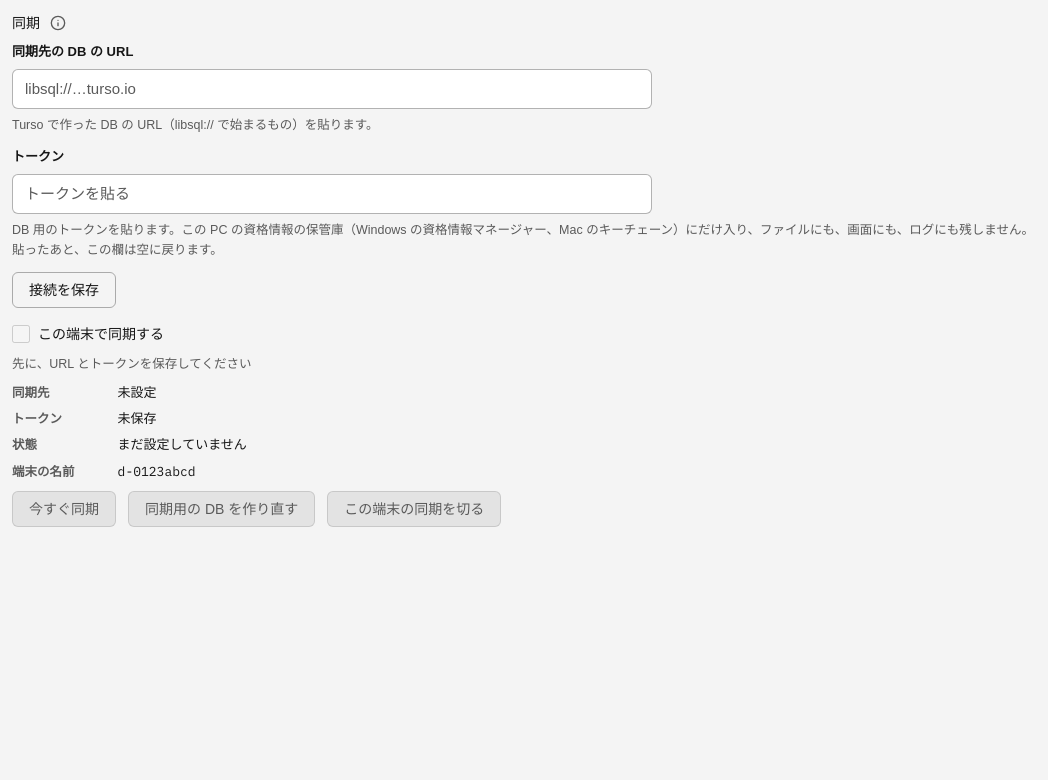
設定の「同期」の欄（F15、D-4） › 何も貼らずに保存を押すと、理由を出し、保存のコマンドは呼ばない
The width and height of the screenshot is (1048, 780).
Click the button "接続を保存". click: (64, 290)
box: [12, 272, 116, 308]
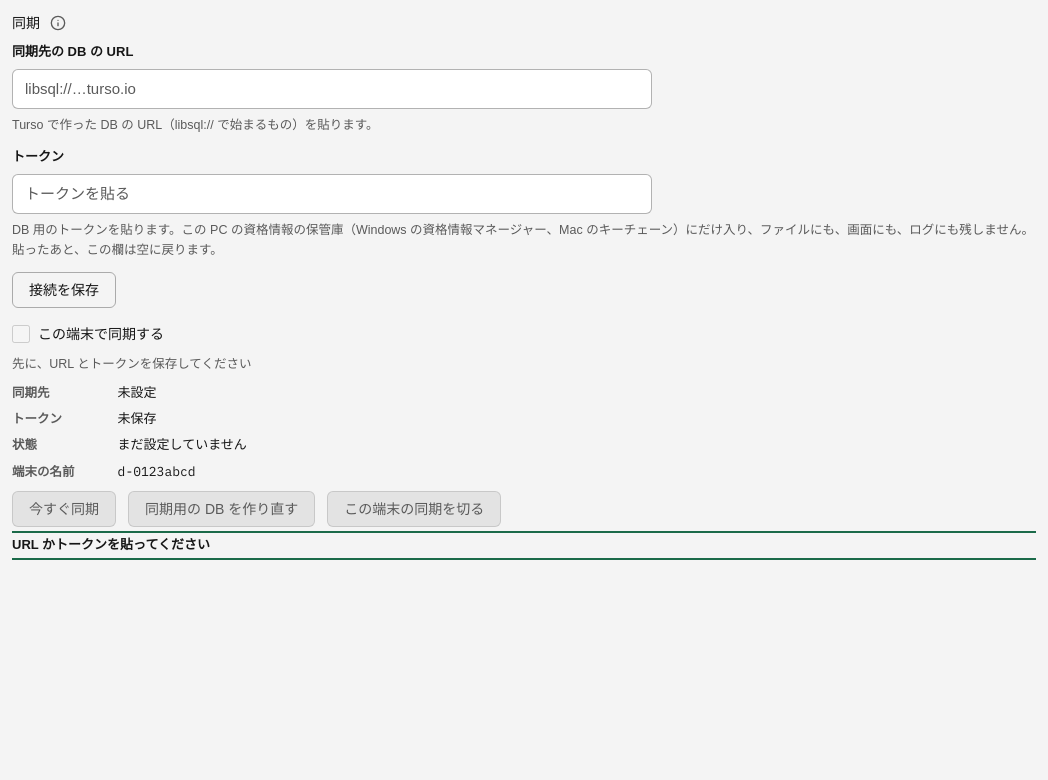
Result: the message "URL かトークンを貼ってください" is shown at [12, 537, 210, 552]
